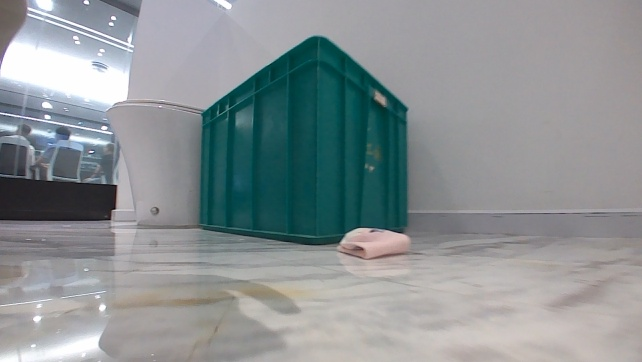socks: (336, 225, 413, 260)
toilet: (103, 95, 205, 227)
